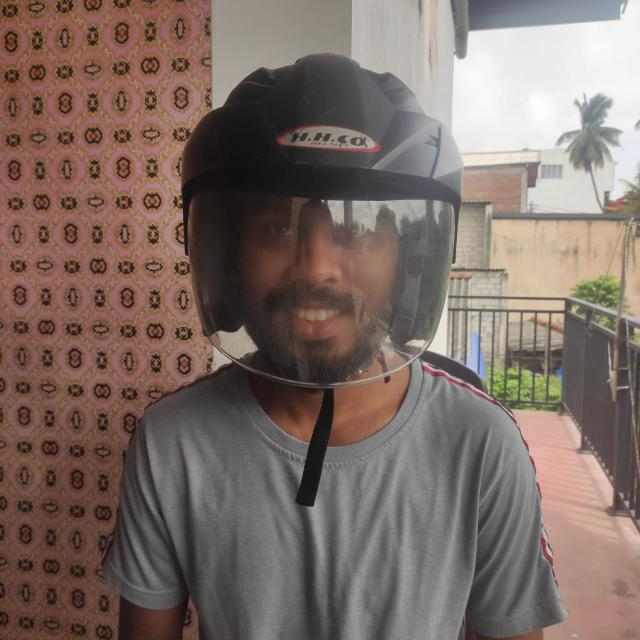helmet: (116, 38, 510, 401)
